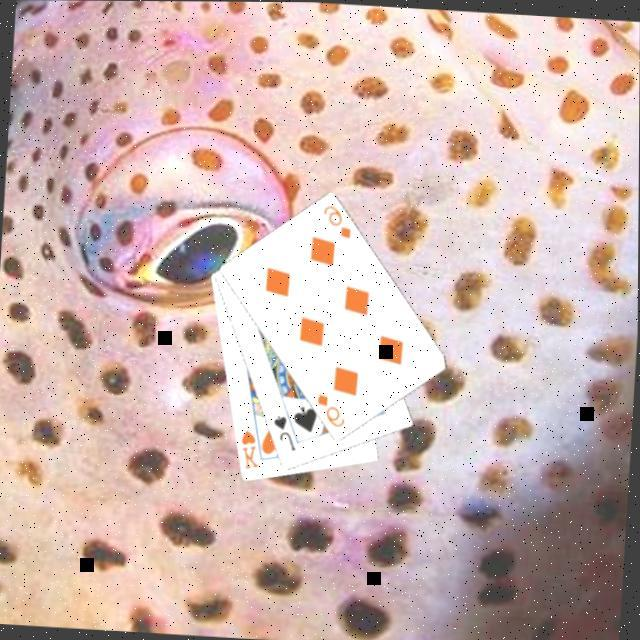6D: (312, 388, 348, 428), (318, 200, 354, 240)
JS: (268, 410, 300, 452)
KH: (236, 424, 264, 469)
